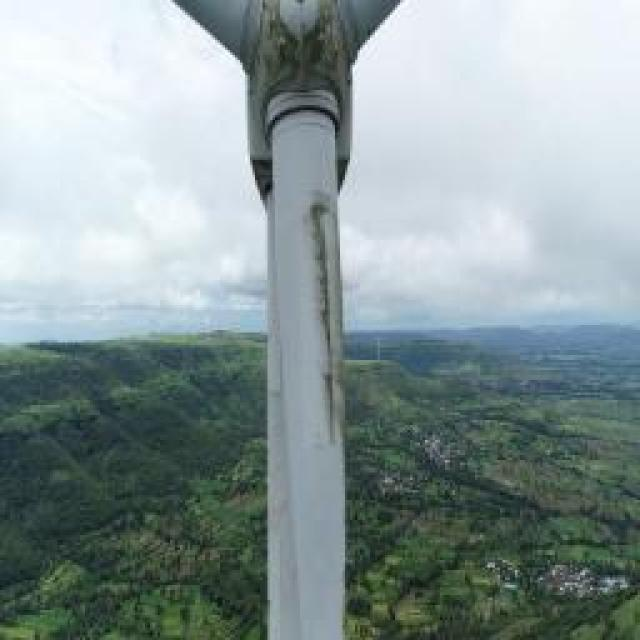Dirt: (308, 188, 350, 450)
